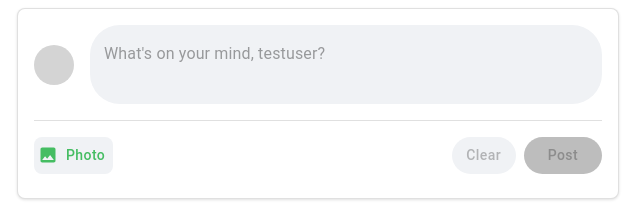
Test case: CreatePost Component › enables post button when text is entered
Expected: the button "Post" is disabled, [524,137,602,174]
In the text box with placeholder "What's on your mind, testuser?": (346, 64) [104,42,588,88], type "Hello world!"
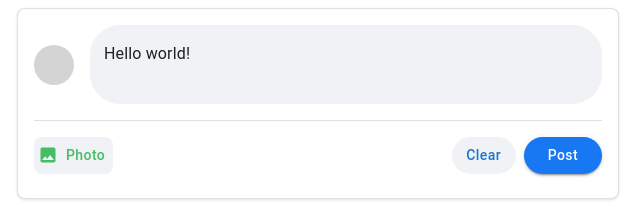
Result: the button "Post" is enabled at [524,137,602,174]
